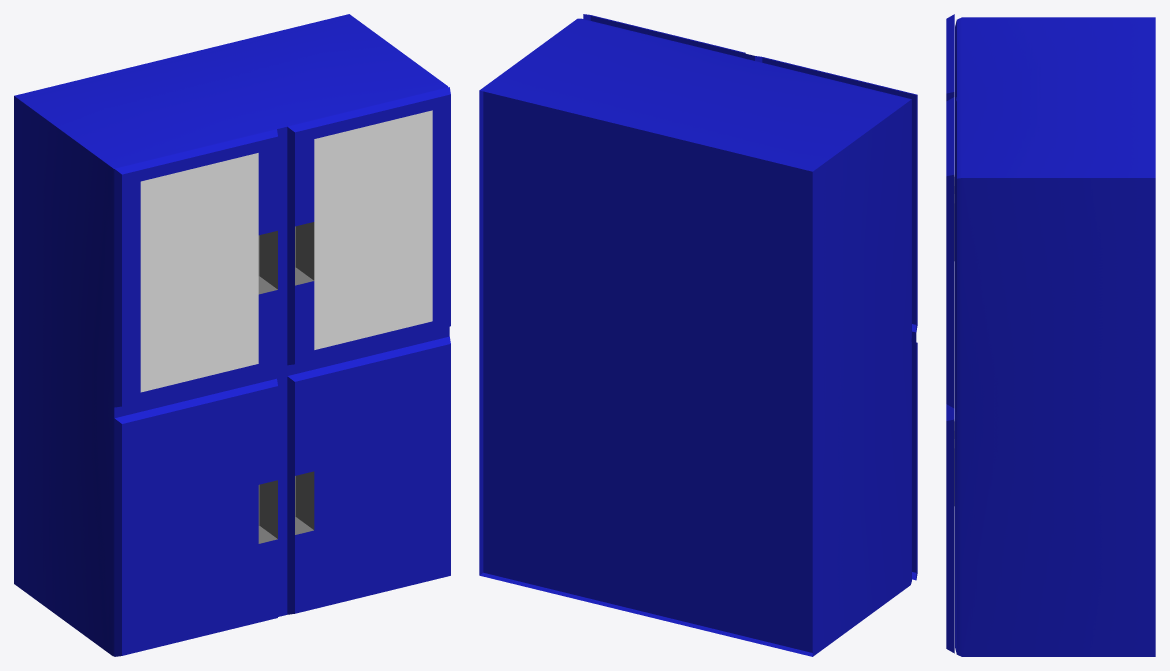
3 views of the same model, side by side, from view 1: azimuth 30°, elevation 25°; view 2: azimuth 150°, elevation 25°; view 3: azimuth 270°, elevation 25° (orthographic).
Visible parts, largest first — view 1: 对象001, Box002, Box003; view 2: Box002, Box003, 对象001; view 3: Box002, Box003, 对象001.
Part boxes in pixels (<box>): 对象001: <box>114,87,450,656</box>; Box002: <box>18,17,447,656</box>; Box003: <box>14,14,435,652</box>; Box002: <box>483,18,911,652</box>; Box003: <box>479,21,904,656</box>; 对象001: <box>583,14,917,580</box>; Box002: <box>955,17,1147,656</box>; Box003: <box>970,17,1155,656</box>; 对象001: <box>946,14,954,653</box>.
Bounding box in the file's own units: 41.77 × 58.04 × 22.9.
